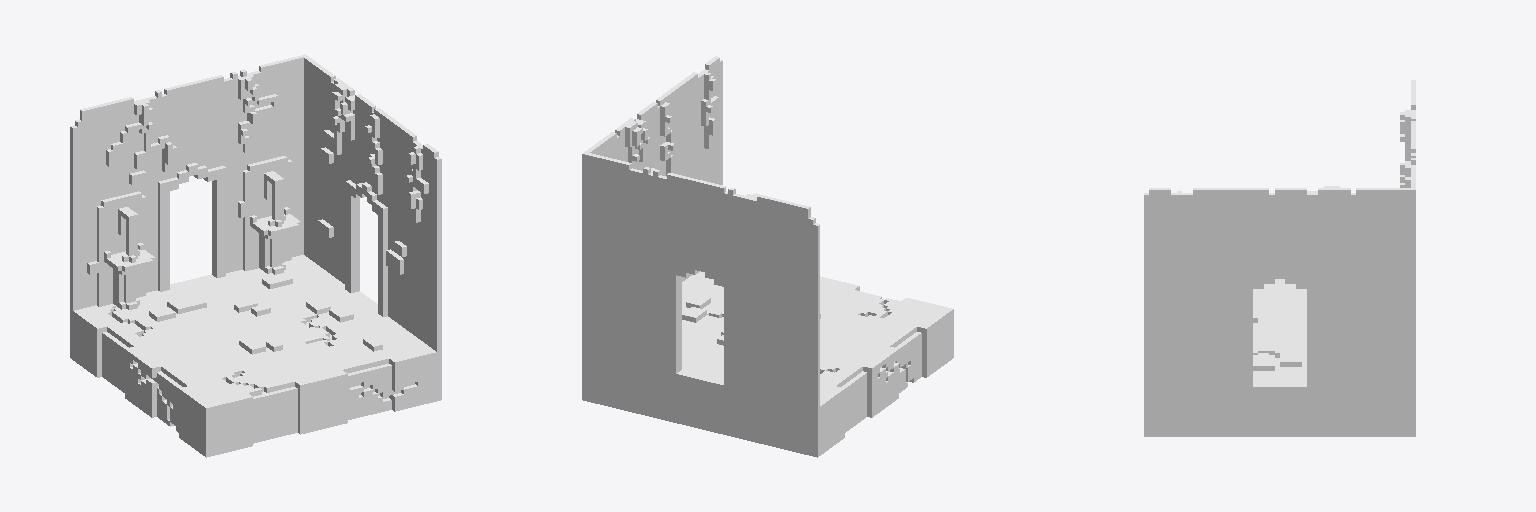
File: Thirsty_Corridor.obj
3 views of the same model, side by side, from view 1: azimuth 30°, elevation 25°; view 2: azimuth 150°, elevation 25°; view 3: azimuth 270°, elevation 25° (orthographic).
Parts seen in each view (by area): view 1: ThirstyCorridor; view 2: ThirstyCorridor; view 3: ThirstyCorridor.
Boxes of the visible parts, box(x1,y1,x2,y2) form: ThirstyCorridor: box(70, 54, 441, 457); ThirstyCorridor: box(582, 56, 953, 457); ThirstyCorridor: box(1144, 80, 1415, 436).
Size of the model in its own units: 5 by 5 by 5.